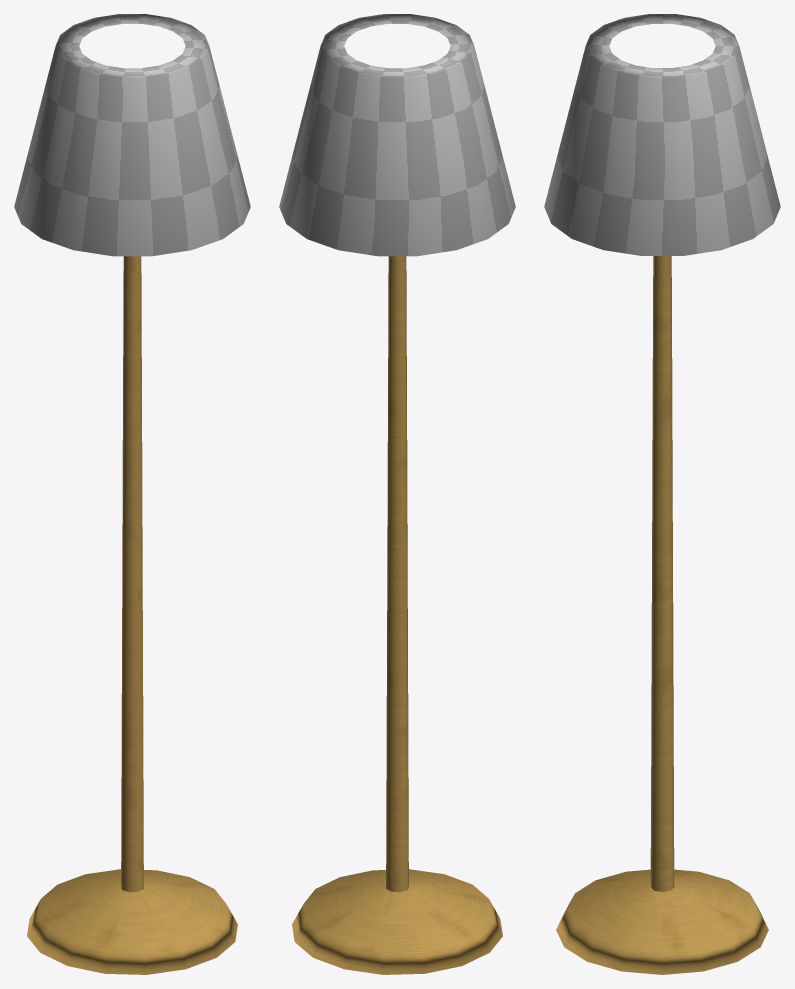
File: floorLamp.glb
3 renders of one model, left to right at view 1: azimuth 30°, elevation 25°; view 2: azimuth 150°, elevation 25°; view 3: azimuth 270°, elevation 25°, orthographic.
Parts seen in each view (by area): view 1: dyn_velvet_variant, floorLamp; view 2: dyn_velvet_variant, floorLamp; view 3: dyn_velvet_variant, floorLamp.
Part boxes in pixels (x1,y1,x2,y2): dyn_velvet_variant: (14,14,250,256); floorLamp: (27,256,237,974); dyn_velvet_variant: (279,14,515,256); floorLamp: (292,256,502,974); dyn_velvet_variant: (544,14,780,255); floorLamp: (556,256,768,974).
Bounding box in the file's own units: 0.3942 × 1.65 × 0.4003.
3 materials, 2 textured.
